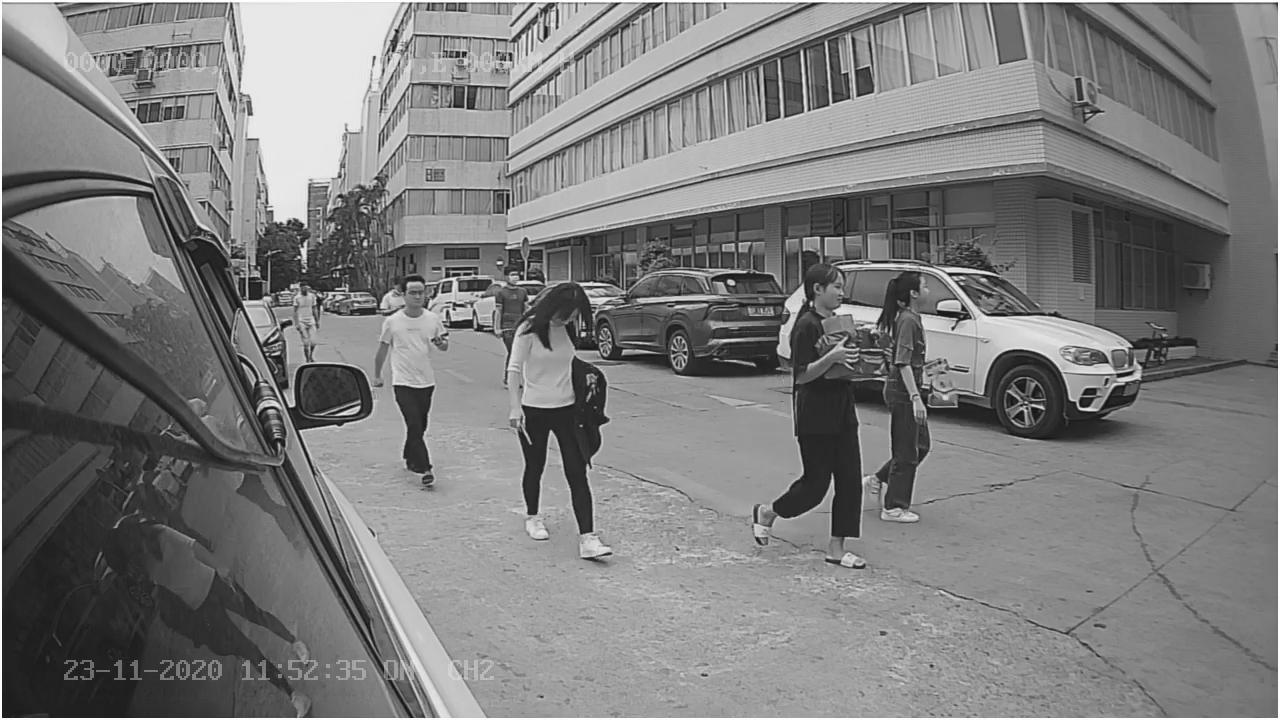person: (511, 285, 607, 564), (373, 273, 444, 492)
